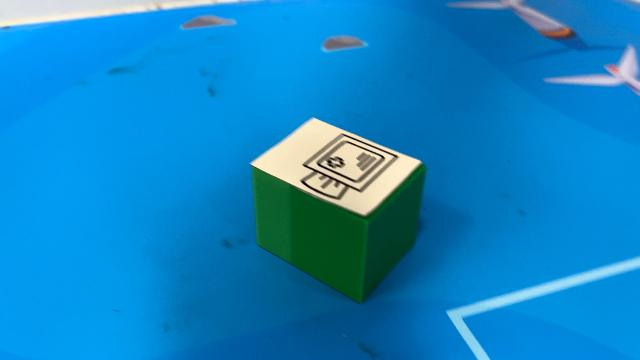napkin: (247, 114, 428, 304)
